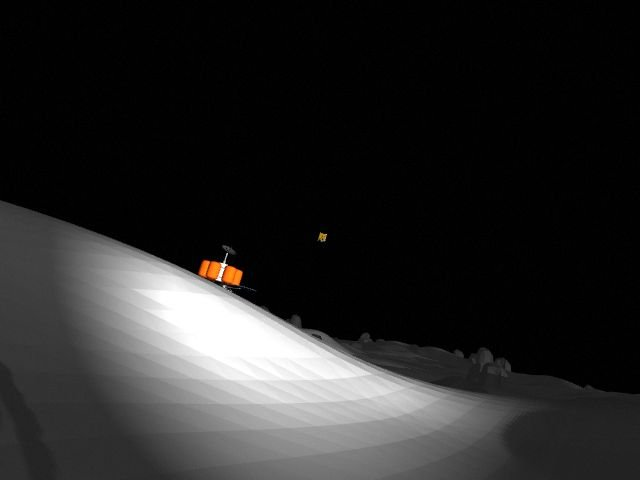homebase: (181, 242, 261, 319)
